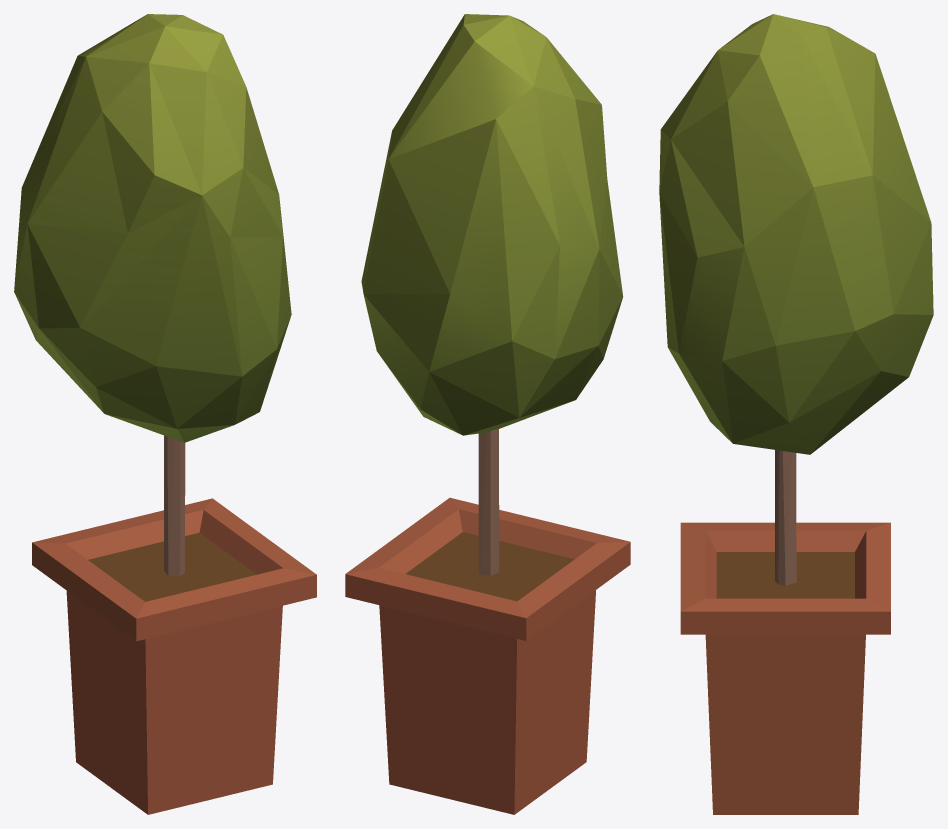
Rendered from Pot_03.fbx.
3 renders of one model, left to right at view 1: azimuth 30°, elevation 25°; view 2: azimuth 150°, elevation 25°; view 3: azimuth 270°, elevation 25°, orthographic.
Parts seen in each view (by area): view 1: Pot_03; view 2: Pot_03; view 3: Pot_03.
Boxes of the visible parts, x1,y1,x2,y2 form: Pot_03: [14, 14, 316, 814]; Pot_03: [345, 14, 630, 814]; Pot_03: [659, 14, 933, 814].
Size of the model in its own units: 39.28 by 125 by 40.78.
